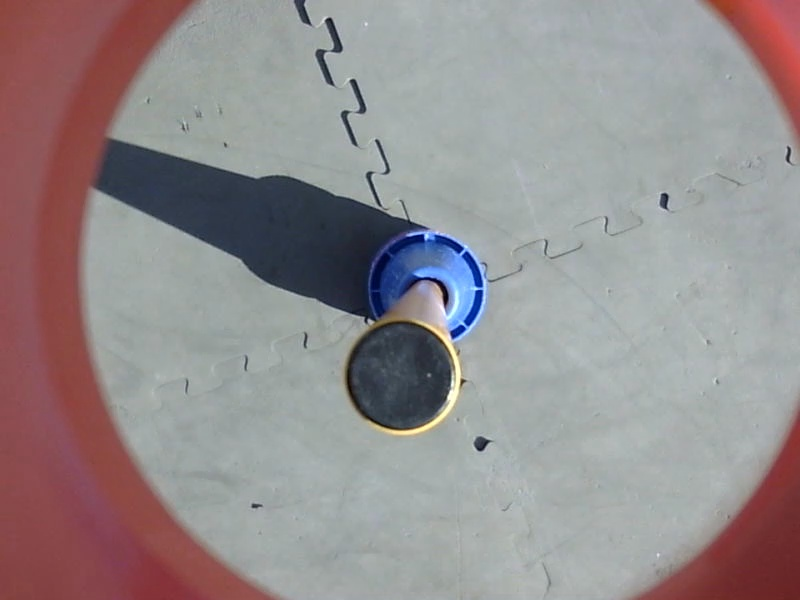tip: (339, 310, 468, 441)
